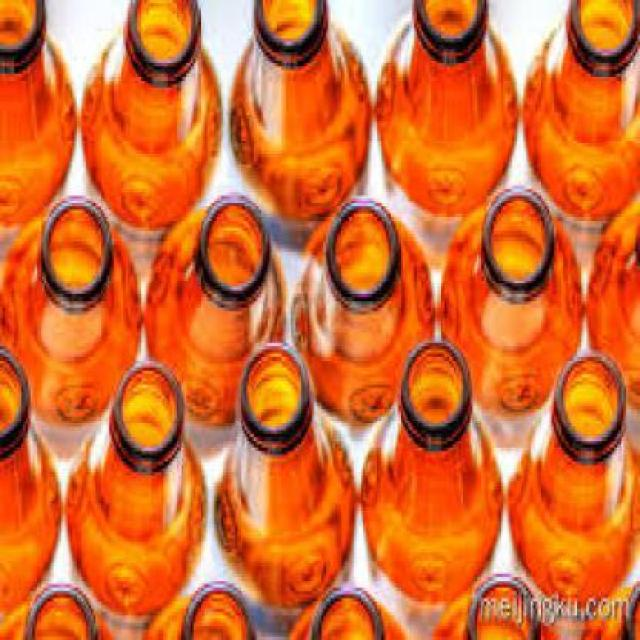kaca: (357, 332, 506, 602), (214, 340, 357, 609), (63, 357, 205, 618), (508, 346, 637, 609), (437, 186, 585, 414), (77, 0, 223, 225), (145, 192, 286, 423), (291, 197, 435, 417), (0, 195, 140, 420), (226, 0, 368, 217), (374, 0, 517, 211), (520, 0, 638, 214), (0, 0, 78, 224), (0, 343, 58, 609), (586, 179, 639, 406), (428, 566, 558, 637), (138, 577, 257, 637), (0, 580, 112, 637), (286, 585, 403, 637), (580, 577, 638, 637)
